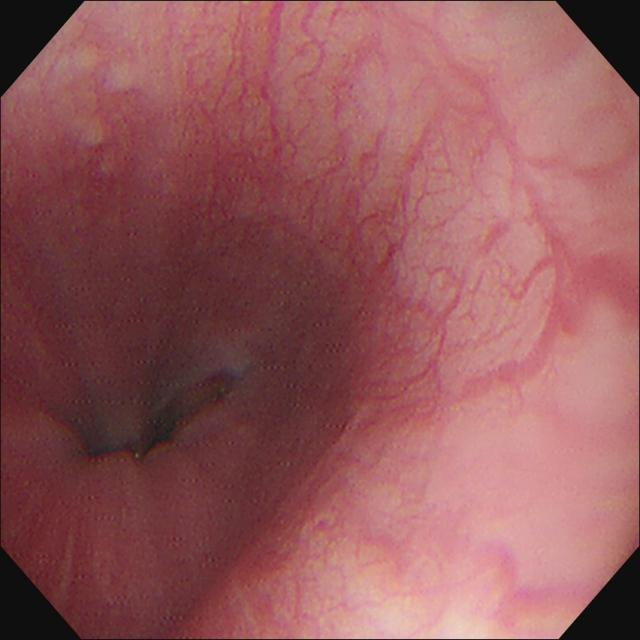I: (32, 321, 243, 507)
